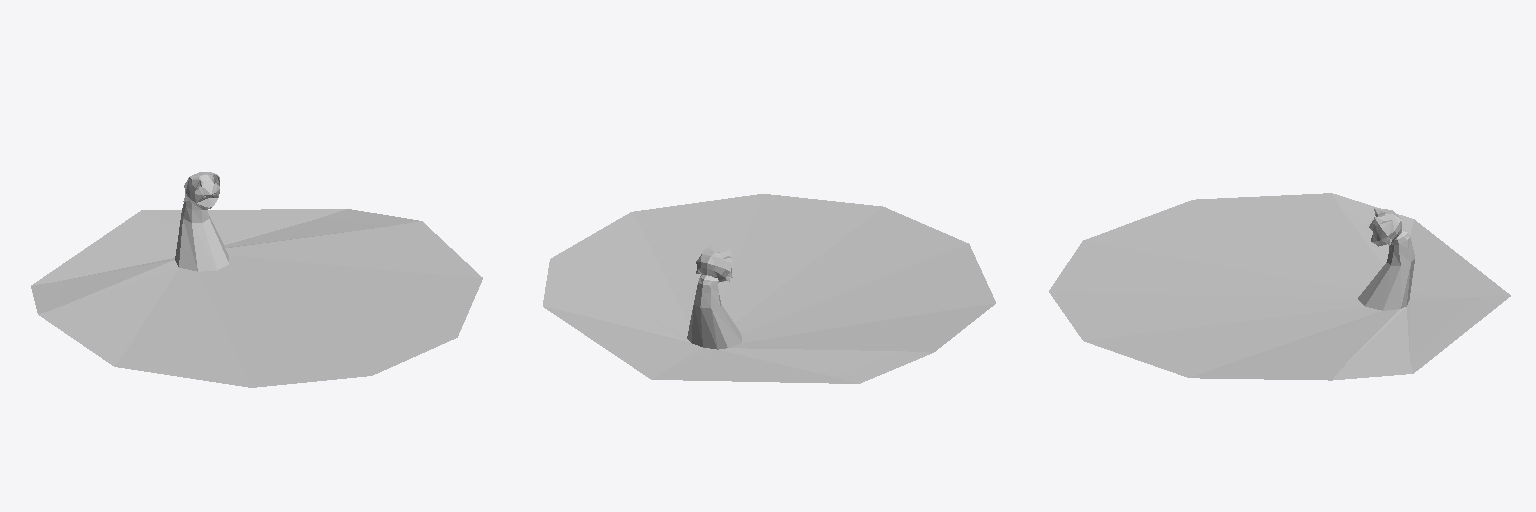
Rendered from Grimalkin.obj.
3 views of the same model, side by side, from view 1: azimuth 30°, elevation 25°; view 2: azimuth 150°, elevation 25°; view 3: azimuth 270°, elevation 25° (orthographic).
Parts seen in each view (by area): view 1: grimkiln_Sphere.007; view 2: grimkiln_Sphere.007; view 3: grimkiln_Sphere.007.
Part boxes in pixels (x1,y1,x2,y2): grimkiln_Sphere.007: (31,172,482,387); grimkiln_Sphere.007: (543,194,995,383); grimkiln_Sphere.007: (1049,193,1510,380).
Bounding box in the file's own units: 112 × 24.67 × 117.